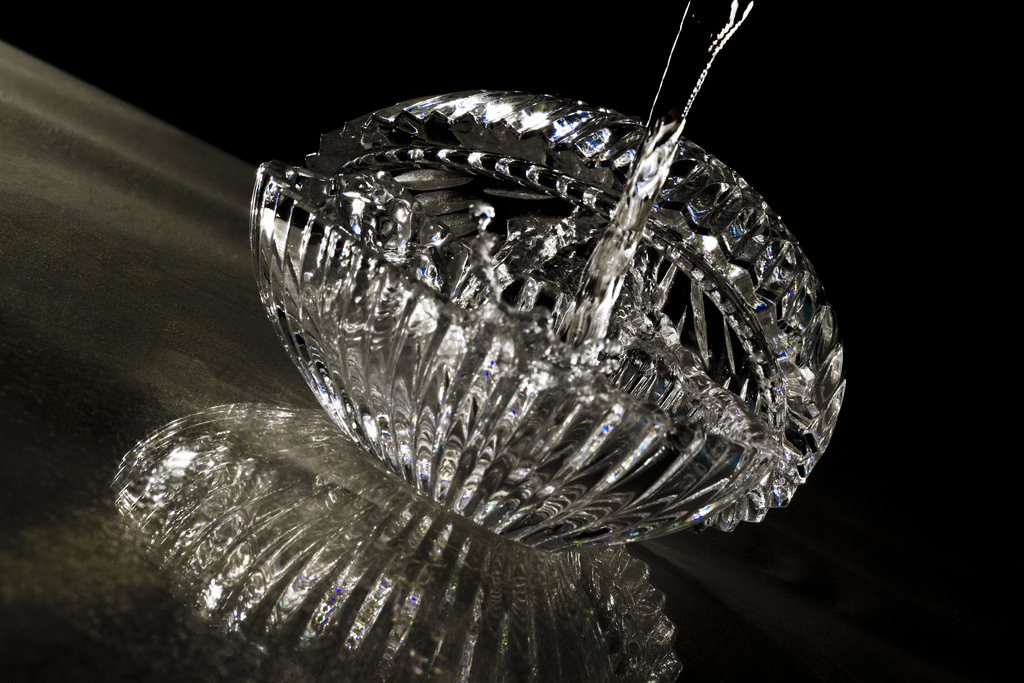glass of water: (244, 98, 857, 549)
